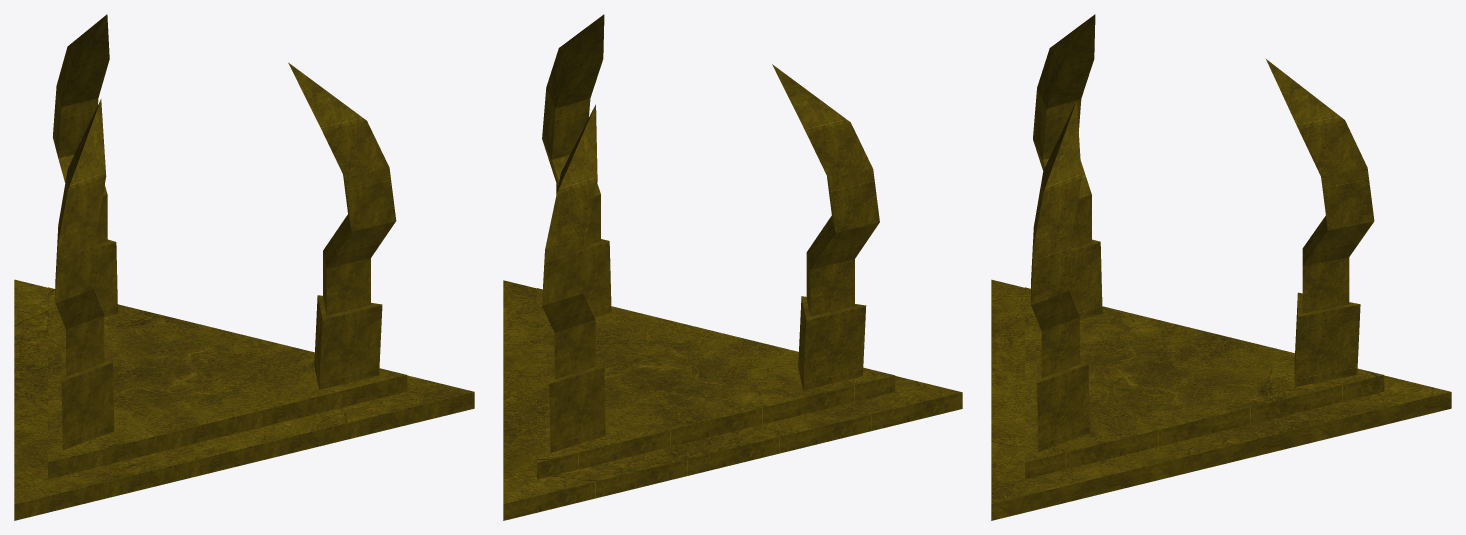
The model's file is magicPortal.obj.
3 views of the same model, side by side, from view 1: azimuth 30°, elevation 25°; view 2: azimuth 150°, elevation 25°; view 3: azimuth 270°, elevation 25° (orthographic).
Parts seen in each view (by area): view 1: teleport; view 2: teleport; view 3: teleport.
Boxes of the visible parts, left/top/right/bottom form: teleport: left=14, top=14, right=474, bottom=520; teleport: left=503, top=14, right=962, bottom=520; teleport: left=991, top=14, right=1451, bottom=520.
Size of the model in its own units: 577 by 419 by 499.
Materials: 1 (1 with a texture image).
